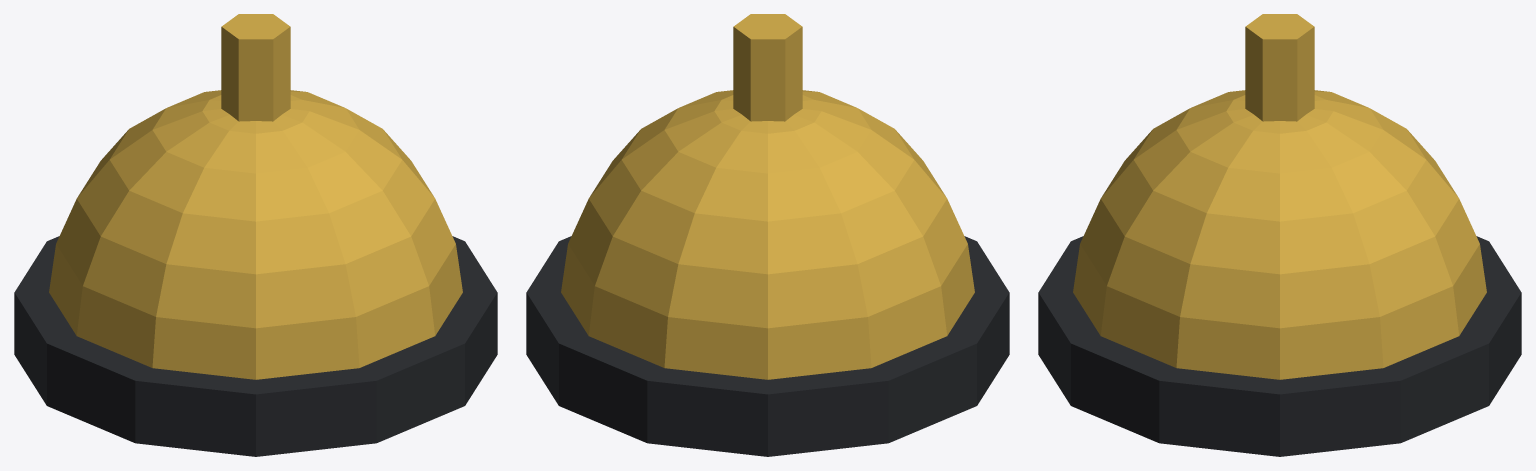
Rendered from counter_bell.glb.
The picture shows the model from 3 angles, left to right: view 1: azimuth 30°, elevation 25°; view 2: azimuth 150°, elevation 25°; view 3: azimuth 270°, elevation 25°; orthographic projection.
Parts seen in each view (by area): view 1: dome_bell_brass, base_press_dark, button_bell_brass; view 2: dome_bell_brass, base_press_dark, button_bell_brass; view 3: dome_bell_brass, base_press_dark, button_bell_brass.
Boxes of the visible parts, <box> form: dome_bell_brass: <box>49,90,462,379</box>; base_press_dark: <box>14,236,497,456</box>; button_bell_brass: <box>221,14,290,121</box>; dome_bell_brass: <box>561,90,974,379</box>; base_press_dark: <box>526,236,1009,456</box>; button_bell_brass: <box>733,14,802,121</box>; dome_bell_brass: <box>1073,90,1486,379</box>; base_press_dark: <box>1038,236,1521,456</box>; button_bell_brass: <box>1245,14,1314,121</box>.
Size of the model in its own units: 0.14 by 0.105 by 0.14.
